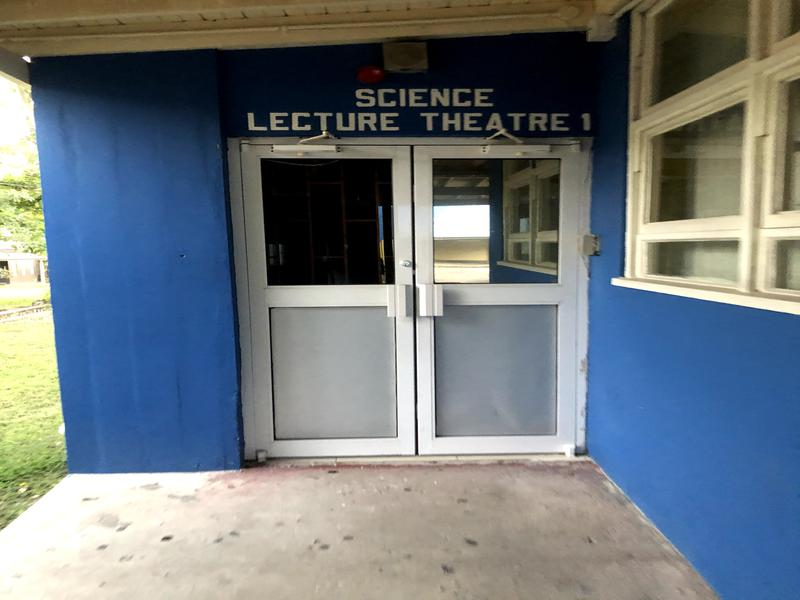18.0051836_-76.7497262_pclt1: (189, 63, 612, 468)
